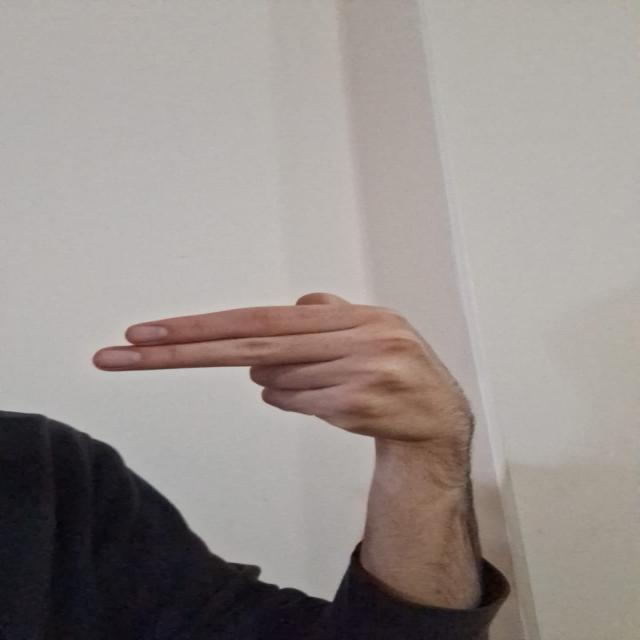N: (85, 287, 486, 451)
